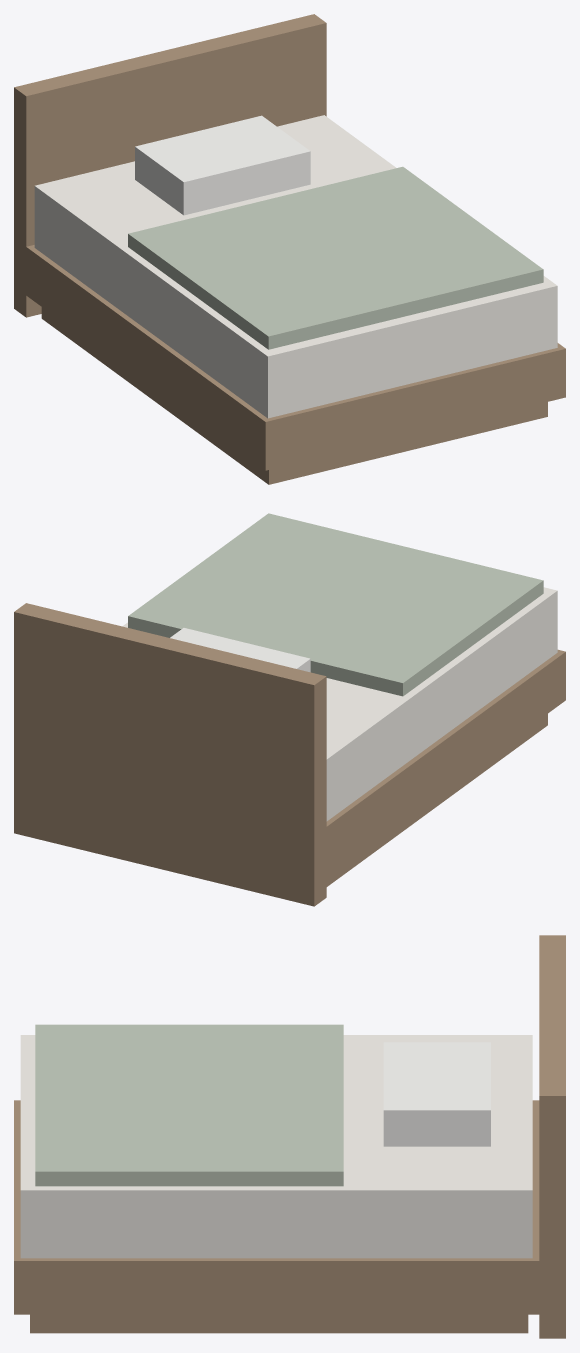
Rendered from bed-full.gltf.
The picture shows the model from 3 angles, top to bottom: view 1: azimuth 30°, elevation 25°; view 2: azimuth 150°, elevation 25°; view 3: azimuth 270°, elevation 25°; orthographic projection. The views are drawn at different scales.
Visible parts, largest first — view 1: Mattress, Blanket, Headboard, Frame, Pillow, Plinth; view 2: Headboard, Blanket, Mattress, Frame, Plinth, Pillow; view 3: Mattress, Blanket, Frame, Pillow, Headboard, Plinth.
Part boxes in pixels (bbox=[...]): Mattress: bbox=[34, 115, 557, 418]; Blanket: bbox=[128, 166, 543, 349]; Headboard: bbox=[14, 14, 326, 317]; Frame: bbox=[26, 245, 565, 470]; Pillow: bbox=[135, 115, 310, 215]; Plinth: bbox=[41, 307, 547, 484]; Headboard: bbox=[14, 603, 326, 906]; Blanket: bbox=[128, 513, 543, 696]; Mattress: bbox=[122, 587, 557, 821]; Frame: bbox=[326, 649, 565, 874]; Plinth: bbox=[326, 714, 547, 886]; Pillow: bbox=[170, 628, 310, 672]; Mattress: bbox=[20, 1035, 532, 1258]; Blanket: bbox=[35, 1024, 343, 1186]; Frame: bbox=[14, 1100, 539, 1314]; Pillow: bbox=[383, 1042, 490, 1146]; Headboard: bbox=[539, 935, 565, 1338]; Plinth: bbox=[30, 1314, 528, 1333].
Bounding box in the file's own units: 0.0887 × 0.0625 × 0.1287.
